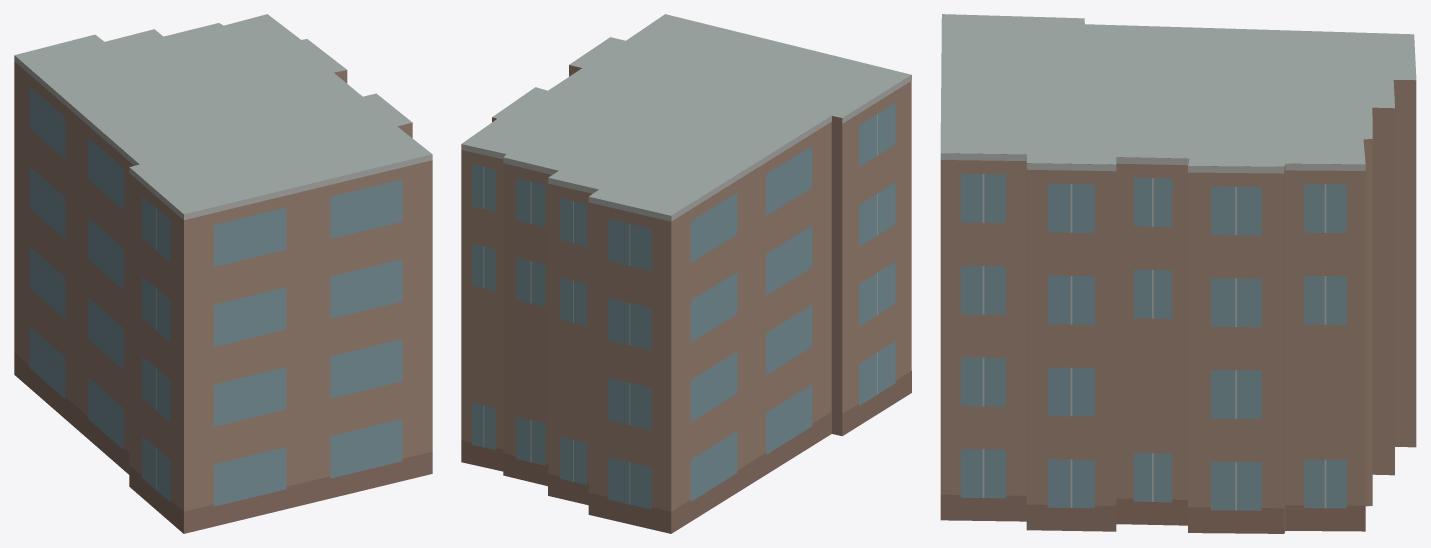
The model's file is survey-upis-32662898.glb.
The picture shows the model from 3 angles, left to right: view 1: azimuth 30°, elevation 25°; view 2: azimuth 150°, elevation 25°; view 3: azimuth 270°, elevation 25°; orthographic projection. The views are drawn at different scales.
Visible parts, largest first — view 1: survey-upis-32662898.tmp; view 2: survey-upis-32662898.tmp; view 3: survey-upis-32662898.tmp.
Part boxes in pixels (box(x1,y1,x2,y2)): survey-upis-32662898.tmp: box(14, 14, 432, 533); survey-upis-32662898.tmp: box(461, 14, 911, 533); survey-upis-32662898.tmp: box(940, 14, 1416, 533).
Size of the model in its own units: 11.88 by 13.3 by 15.64.
